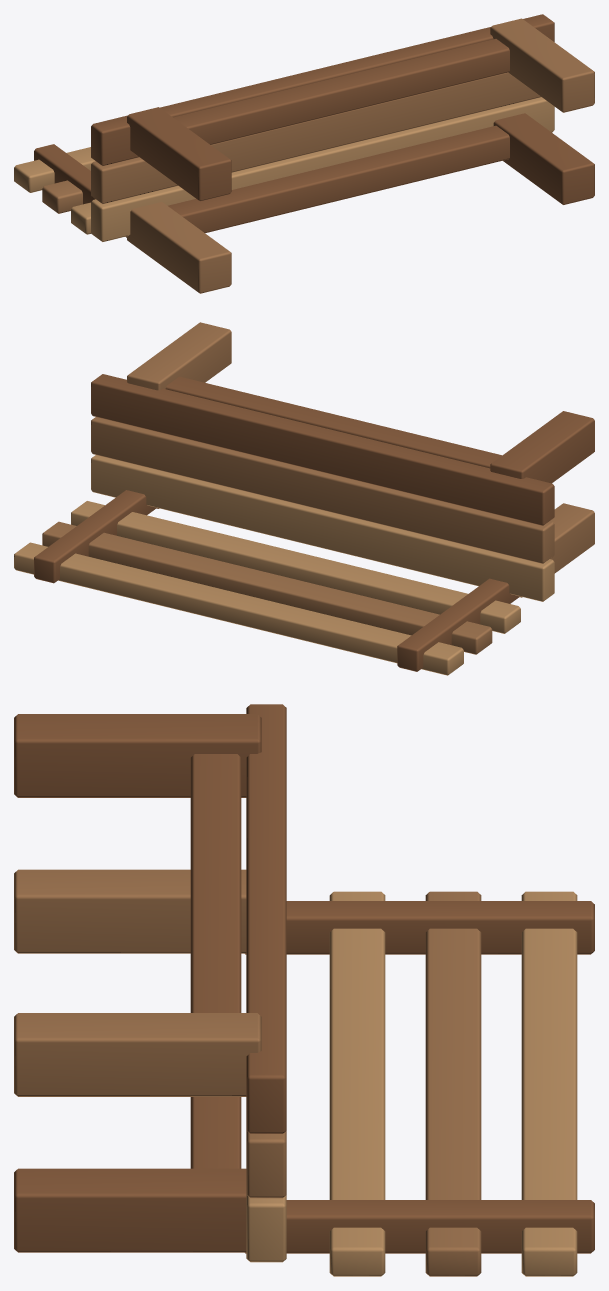
The model's file is BenchProvisional.fbx.
The picture shows the model from 3 angles, top to bottom: view 1: azimuth 30°, elevation 25°; view 2: azimuth 150°, elevation 25°; view 3: azimuth 270°, elevation 25°; orthographic projection. The views are drawn at different scales.
Visible parts, largest first — view 1: Seat_Slat_02, Seat_Apron_Back, Seat_Apron_Front, Seat_Slat_01, Seat_Slat_03, Leg_0_1, Leg_0_0, Leg_1_1, Leg_1_0, Back_Post_Left, Back_Slat_03, Back_Slat_02 (+1 smaller); view 2: Seat_Slat_03, Seat_Slat_02, Seat_Slat_01, Back_Slat_03, Back_Slat_02, Back_Slat_01, Seat_Apron_Front, Leg_0_1, Leg_1_1, Back_Post_Left, Back_Post_Right, Leg_0_0; view 3: Leg_1_1, Leg_1_0, Back_Slat_03, Back_Slat_01, Back_Slat_02, Leg_0_1, Seat_Slat_03, Leg_0_0, Seat_Apron_Front, Back_Post_Left, Back_Post_Right, Seat_Apron_Back (+2 smaller).
Boxes of the visible parts, box(x1,y1,x2,y2) form: Seat_Slat_02: box(91, 72, 540, 203); Seat_Apron_Back: box(168, 125, 509, 233); Seat_Apron_Front: box(173, 39, 509, 144); Seat_Slat_01: box(91, 97, 554, 241); Seat_Slat_03: box(91, 14, 554, 165); Leg_0_1: box(127, 107, 231, 201); Leg_0_0: box(127, 202, 231, 293); Leg_1_1: box(490, 18, 594, 112); Leg_1_0: box(493, 113, 594, 204); Back_Post_Left: box(34, 144, 126, 237); Back_Slat_03: box(14, 147, 95, 192); Back_Slat_02: box(42, 180, 82, 213); Seat_Slat_03: box(91, 374, 554, 525); Seat_Slat_02: box(91, 417, 554, 563); Seat_Slat_01: box(91, 455, 554, 601); Back_Slat_03: box(14, 542, 463, 675); Back_Slat_02: box(42, 521, 492, 654); Back_Slat_01: box(71, 501, 520, 633); Seat_Apron_Front: box(165, 376, 501, 468); Leg_0_1: box(490, 411, 594, 483); Leg_1_1: box(127, 322, 231, 390); Back_Post_Left: box(397, 578, 519, 671); Back_Post_Right: box(34, 490, 155, 583); Leg_0_0: box(518, 503, 594, 597); Leg_1_1: box(14, 1013, 261, 1096); Leg_1_0: box(14, 1168, 246, 1252); Back_Slat_03: box(521, 891, 577, 1276); Back_Slat_01: box(329, 891, 385, 1276); Back_Slat_02: box(425, 891, 481, 1276); Leg_0_1: box(14, 714, 261, 797); Seat_Slat_03: box(246, 704, 286, 1133); Leg_0_0: box(14, 869, 246, 953); Seat_Apron_Front: box(190, 754, 241, 1012); Back_Post_Left: box(245, 901, 594, 954); Back_Post_Right: box(245, 1200, 594, 1253); Seat_Apron_Back: box(190, 1097, 241, 1168).
Bounding box in the file's own units: 175 × 48.75 × 115.
